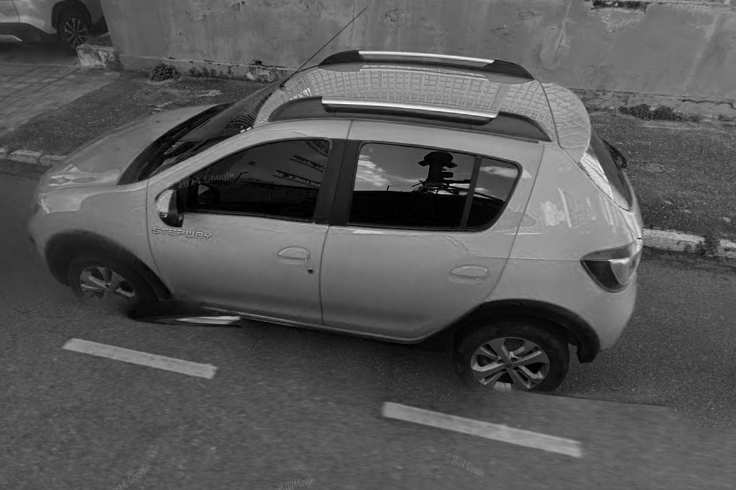car: (24, 5, 646, 401)
